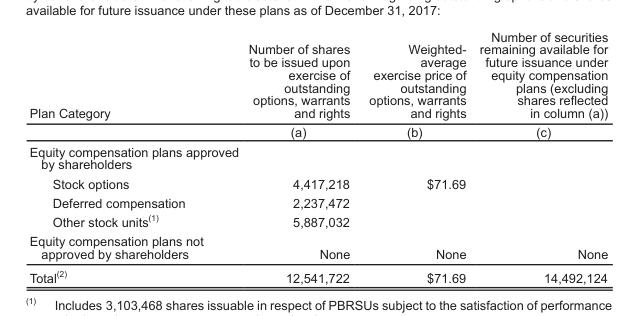table: (28, 29, 607, 284)
table column: (28, 29, 225, 284), (472, 29, 607, 284), (225, 29, 358, 284), (358, 29, 472, 284)
table column header: (28, 29, 607, 141)
table projected row header: (28, 141, 607, 173)
table row: (28, 29, 607, 141), (28, 230, 607, 264), (28, 141, 607, 173), (28, 210, 607, 230), (28, 264, 607, 284), (28, 173, 607, 192), (28, 192, 607, 210)
